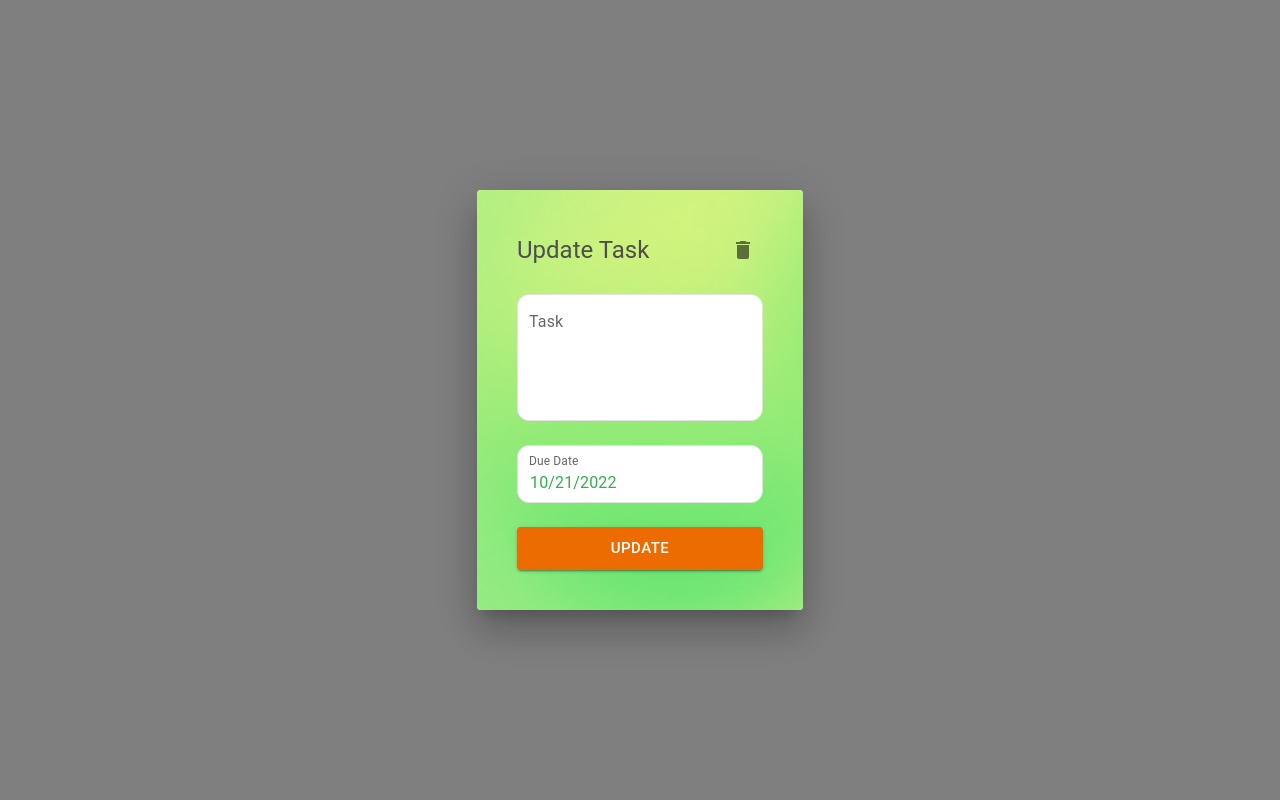
Test case: update task form › updating tasks with network error
This screenshot has width=1280, height=800.
Type "Title" into the text box with test id "baseTextAreaField". click: (640, 366)
box: [530,320,750,412]
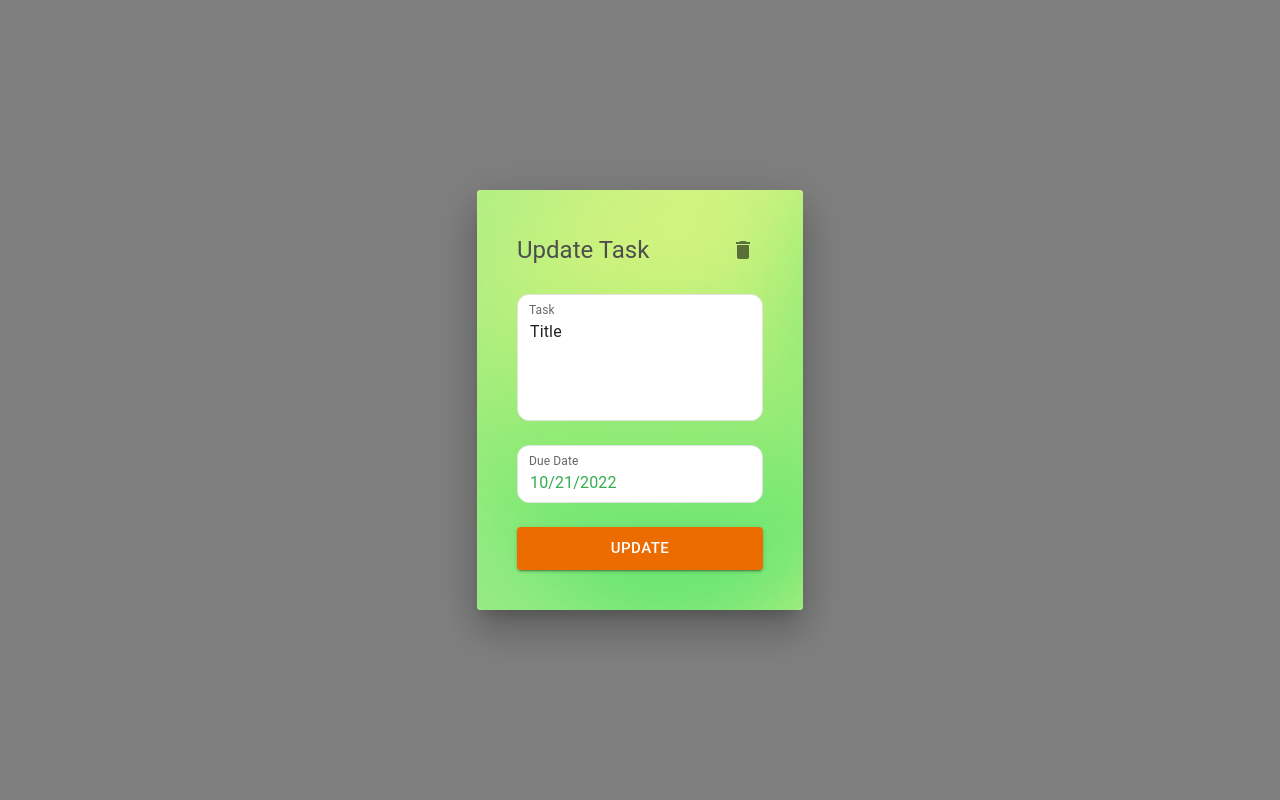
Click the button with test id "updateTask". click: click(640, 549)
box: [517,527,763,570]
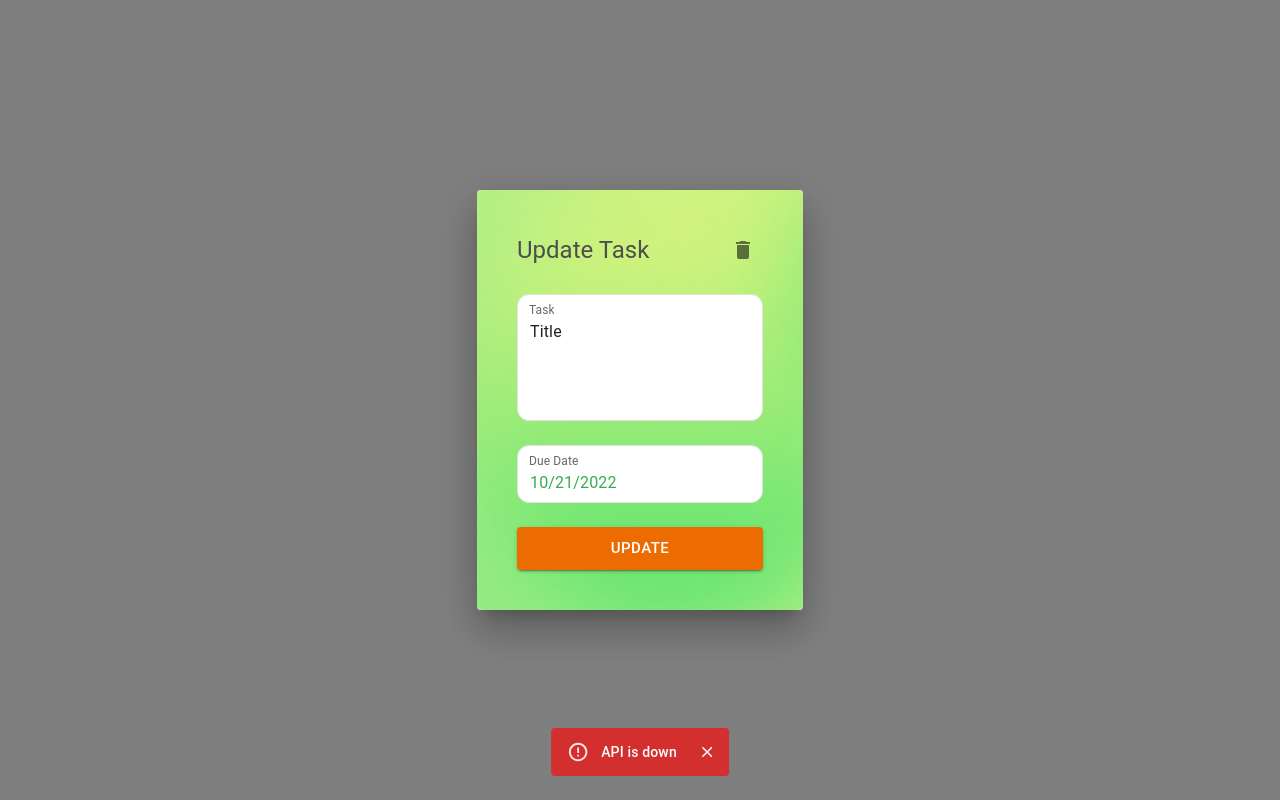
Check: the text "API is down" is shown, box [601,744,677,760]
